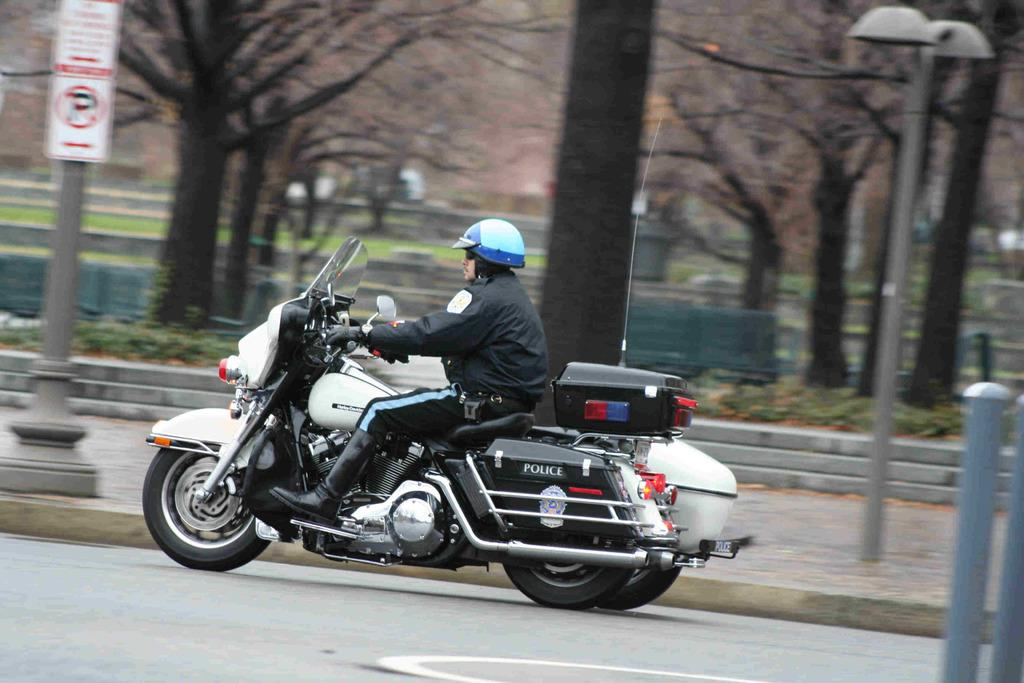helmet: (451, 218, 525, 281)
